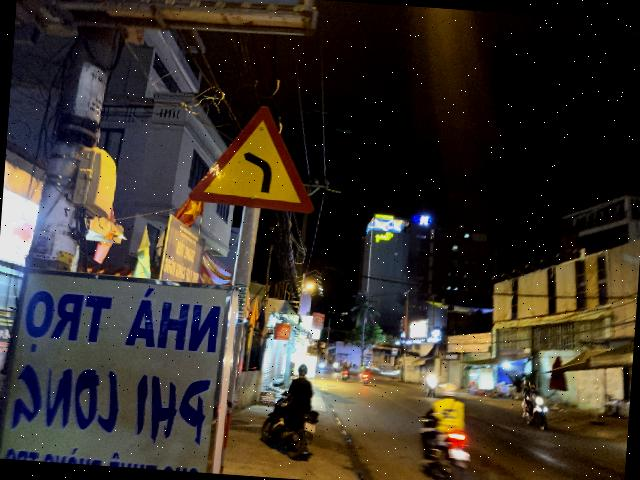cho-ngoat-nguy-hiem-ben-phai: (188, 100, 320, 212)
